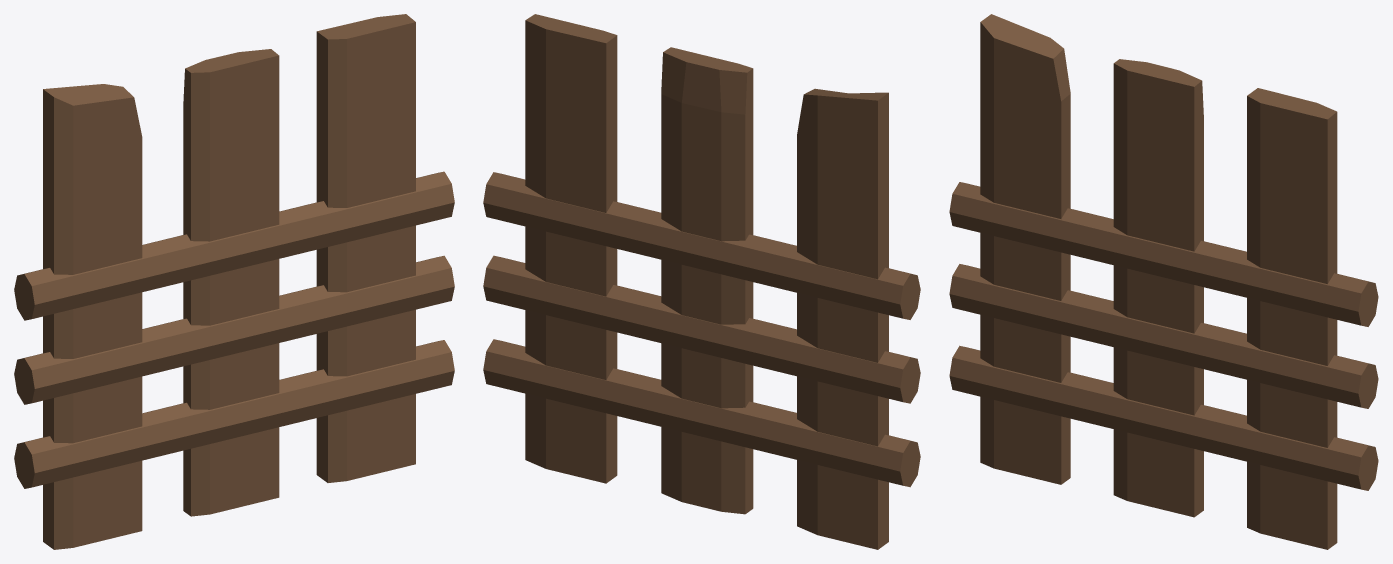
Rendered from Desert_Village_Fence_2.fbx.
3 renders of one model, left to right at view 1: azimuth 30°, elevation 25°; view 2: azimuth 150°, elevation 25°; view 3: azimuth 330°, elevation 25°, orthographic. The views are drawn at different scales.
Parts seen in each view (by area): view 1: Fence_2; view 2: Fence_2; view 3: Fence_2.
Boxes of the visible parts, x1,y1,x2,y2 form: Fence_2: (14, 14, 454, 549); Fence_2: (483, 14, 920, 549); Fence_2: (949, 14, 1378, 549).
Bounding box in the file's own units: 132 × 136 × 11.23.
